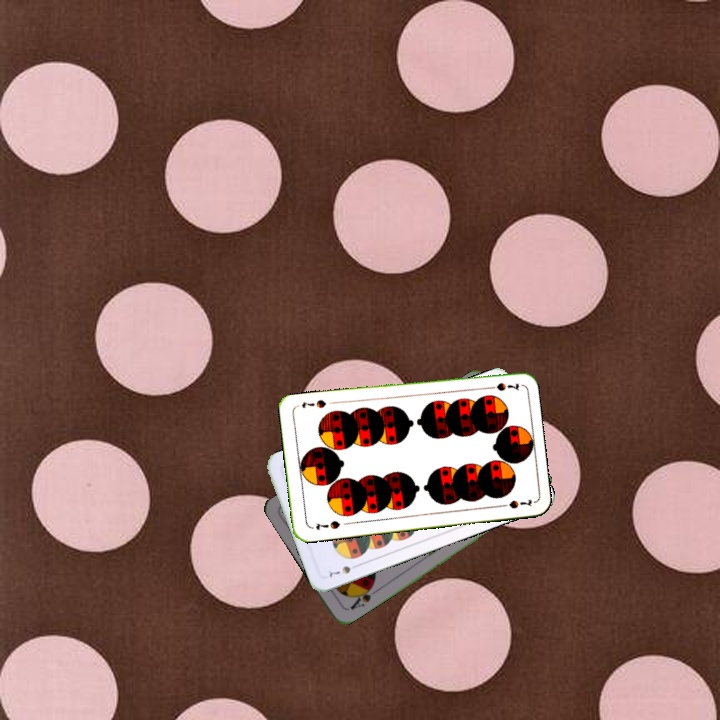S7: (325, 560, 362, 580), (481, 379, 522, 394), (312, 516, 343, 533)
SA: (346, 581, 380, 612)
